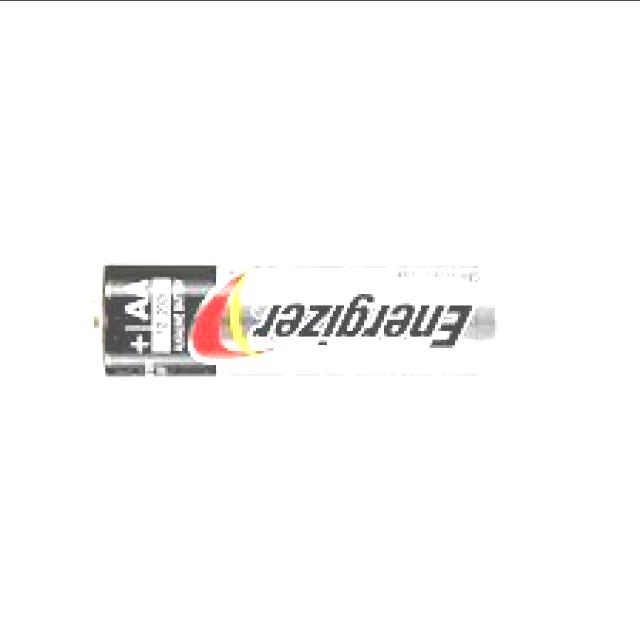AA: (91, 261, 498, 375)
